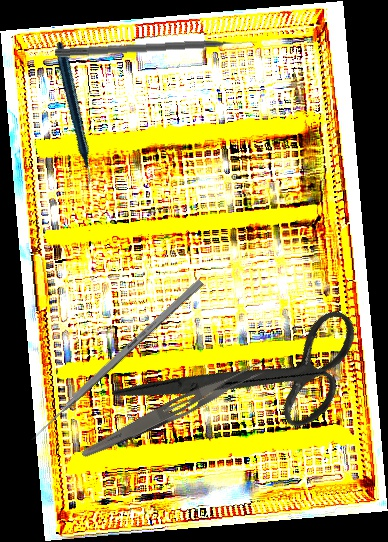Dressing Forceps: (78, 356, 268, 468)
Handpiece: (7, 40, 138, 190)
Iris Scissors: (111, 243, 385, 509)
Pusher: (28, 278, 204, 443), (54, 37, 258, 60)
